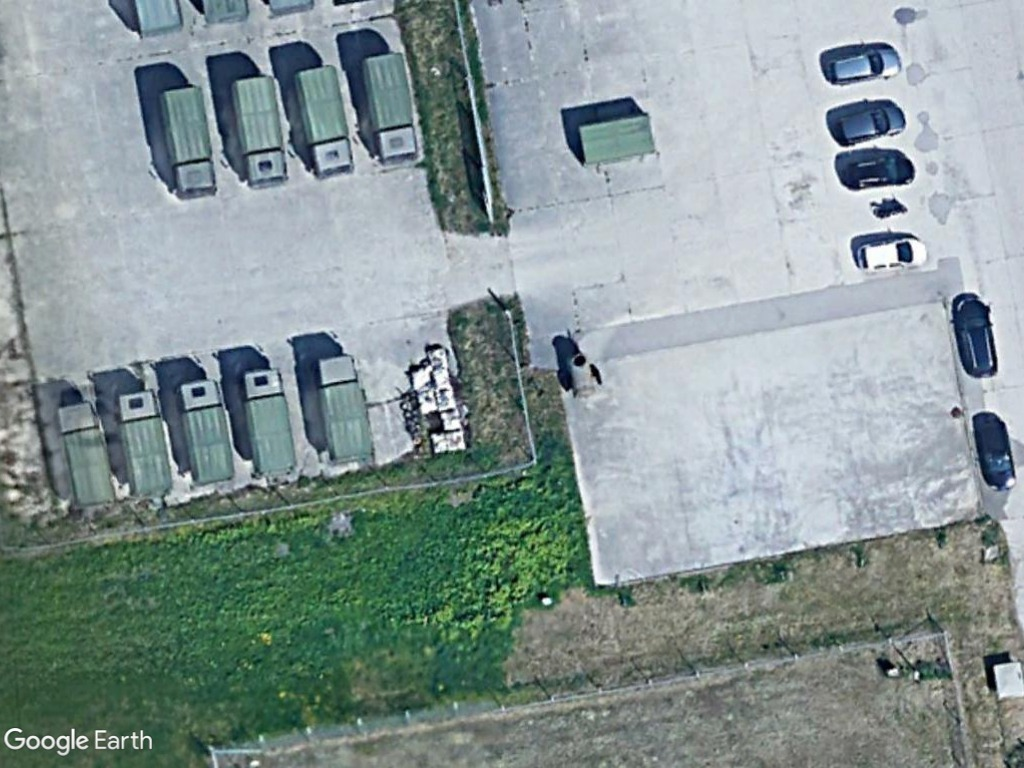car: (950, 290, 1002, 381), (970, 411, 1022, 495), (828, 101, 910, 147), (820, 45, 906, 88), (850, 236, 935, 276), (836, 154, 919, 193)
truck: (226, 68, 294, 190), (308, 349, 377, 468), (110, 385, 180, 502), (153, 80, 219, 203), (289, 58, 355, 179), (50, 395, 119, 510), (358, 47, 424, 167), (172, 372, 239, 488), (235, 362, 299, 482)
